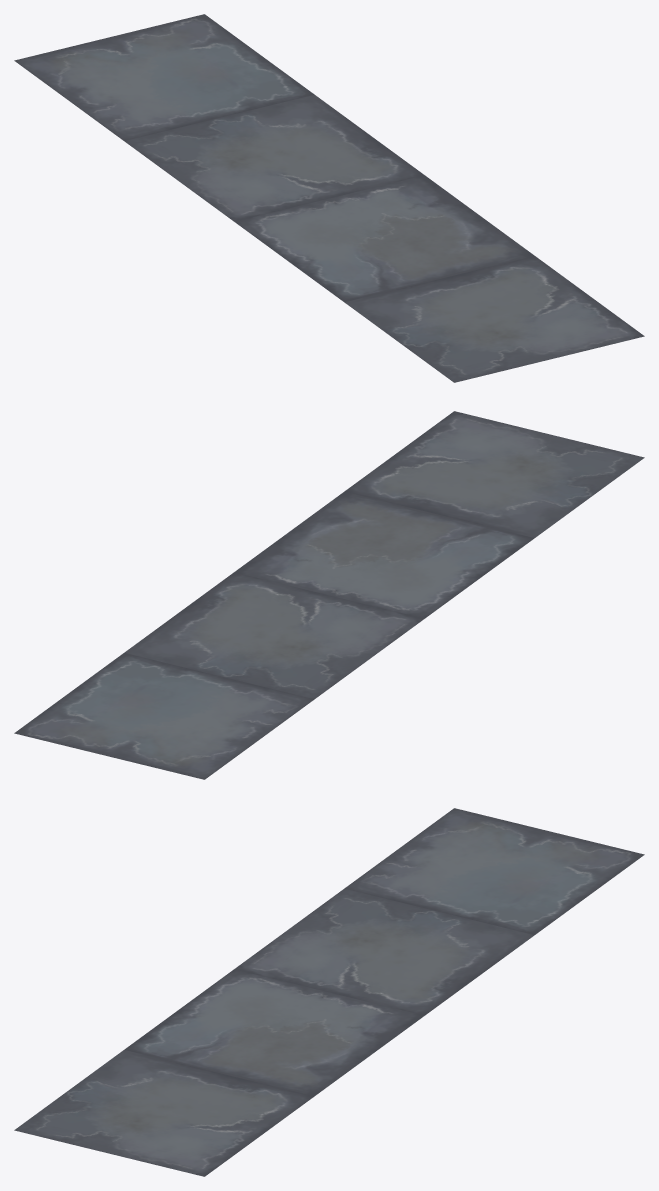
File: Castle Ground + Bright 1x4.fbx
3 views of the same model, one above another, from view 1: azimuth 30°, elevation 25°; view 2: azimuth 150°, elevation 25°; view 3: azimuth 330°, elevation 25° (orthographic).
Visible parts, largest first — view 1: Castle Ground + Bright 1x4; view 2: Castle Ground + Bright 1x4; view 3: Castle Ground + Bright 1x4.
Boxes of the visible parts, x1,y1,x2,y2 form: Castle Ground + Bright 1x4: (14,14,644,382); Castle Ground + Bright 1x4: (14,411,644,779); Castle Ground + Bright 1x4: (14,808,644,1176).
Bounding box in the file's own units: 0.75 × 7.5e-07 × 3.
